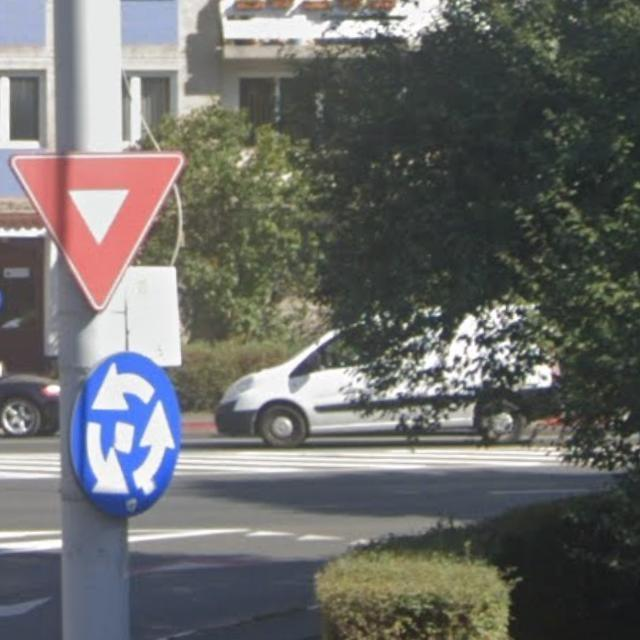prio_give_way: (8, 149, 187, 316)
